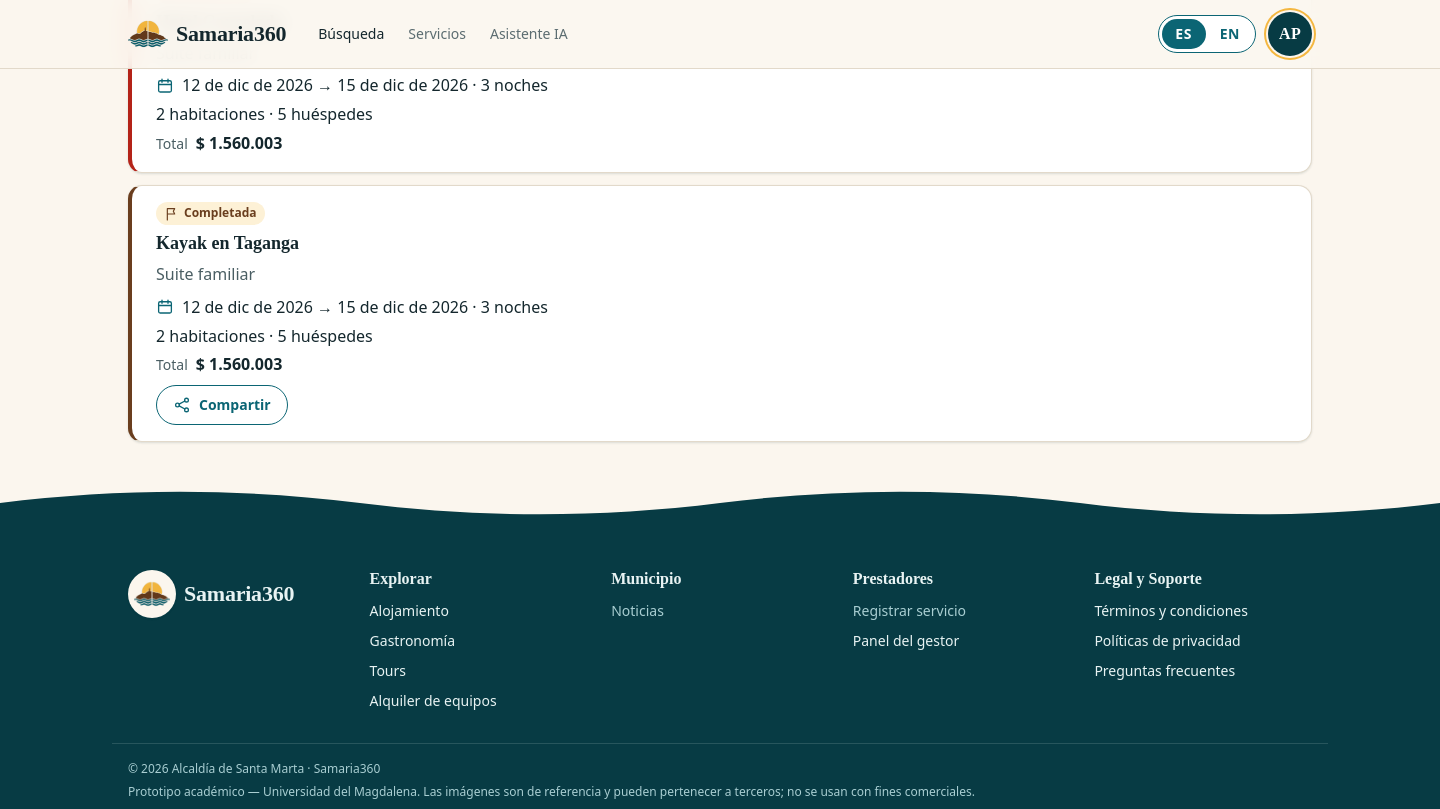
Scenario: «Compartir» en «Mis reservas» (RF49, DEC-81, DEC-100) › si la hoja de compartir falla por otro motivo, también copia al portapapeles
The image size is (1440, 809).
(page scrolled)
Click the button with aria-label "Compartir Kayak en Taganga": (222, 405) x1=156 y1=385 x2=288 y2=425
(page scrolled)
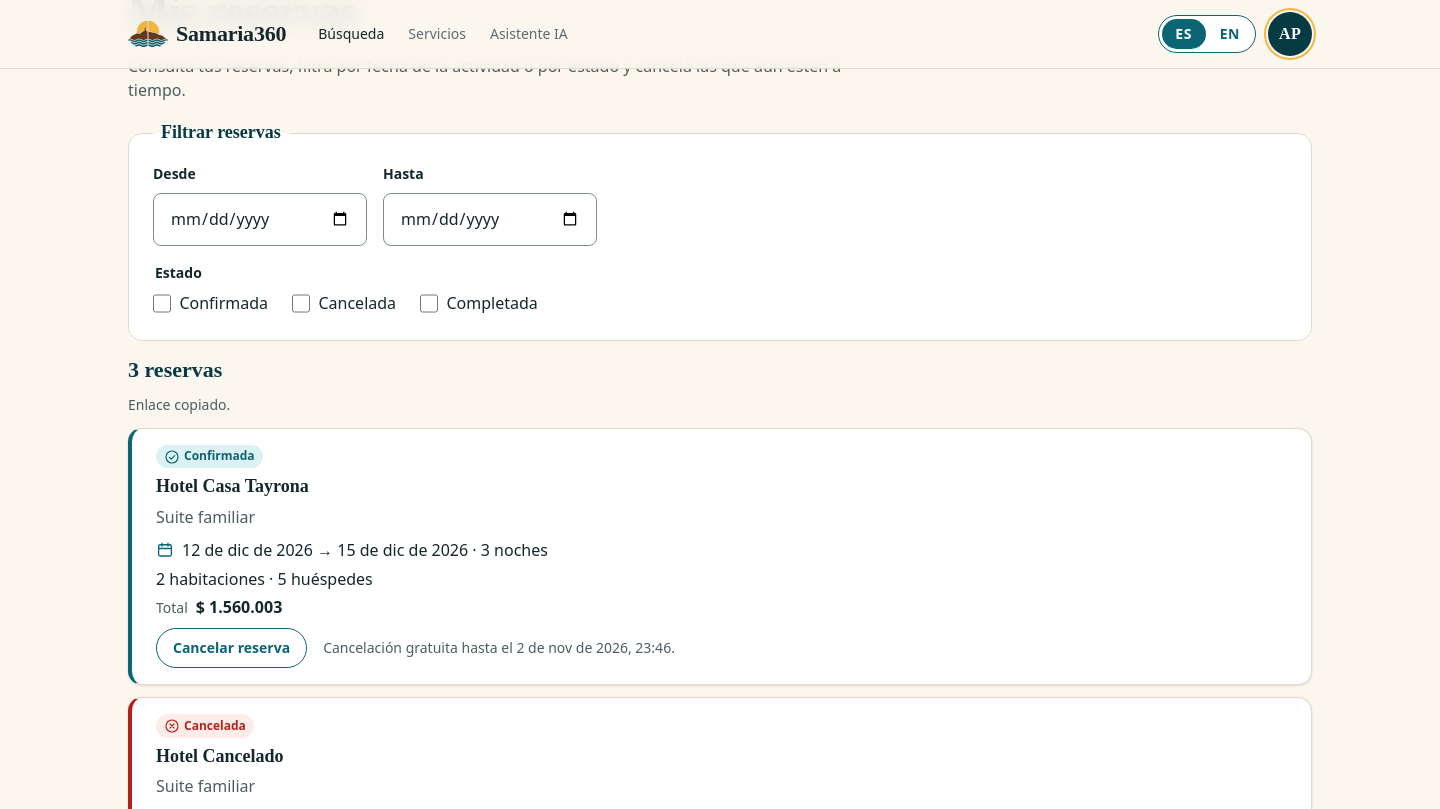
Now the text "Enlace copiado." is shown, box x1=128 y1=395 x2=230 y2=414
